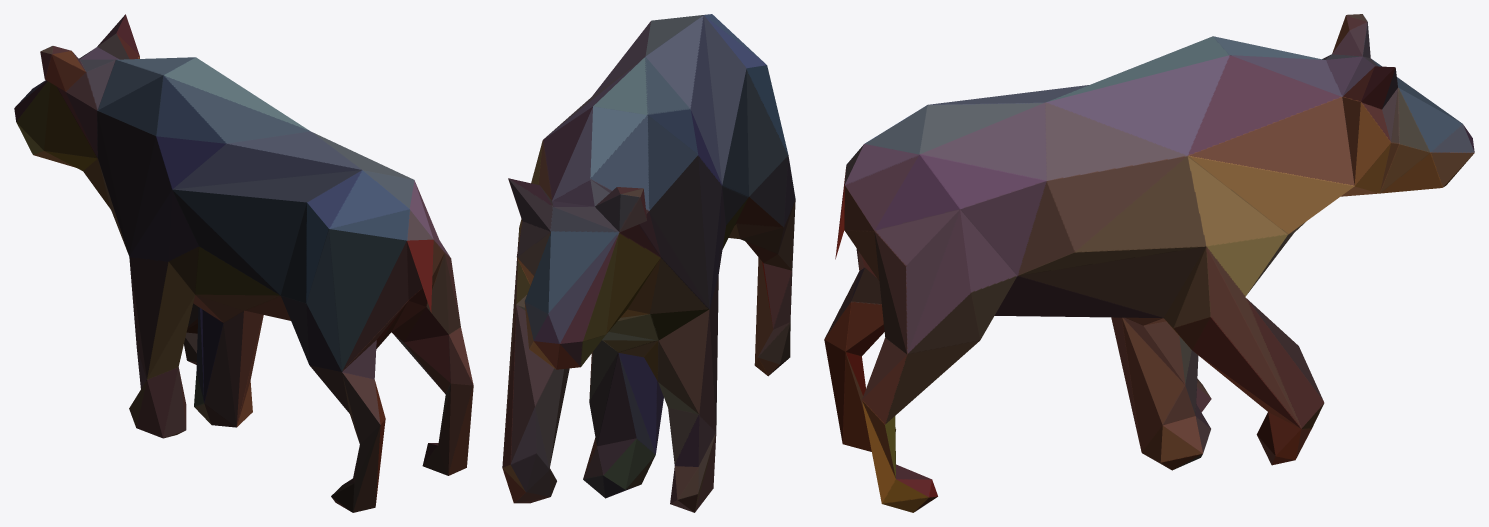
Rendered from SpecieModel4.fbx.
3 renders of one model, left to right at view 1: azimuth 30°, elevation 25°; view 2: azimuth 150°, elevation 25°; view 3: azimuth 270°, elevation 25°, orthographic. The views are drawn at different scales.
Parts seen in each view (by area): view 1: Mesh_0; view 2: Mesh_0; view 3: Mesh_0.
Boxes of the visible parts, x1=… form: Mesh_0: x1=14, y1=14, x2=473, y2=512; Mesh_0: x1=502, y1=14, x2=795, y2=512; Mesh_0: x1=824, y1=14, x2=1474, y2=512.
Bounding box in the file's own units: 65.37 × 97.91 × 142.
Materials: 1 (1 with a texture image).
